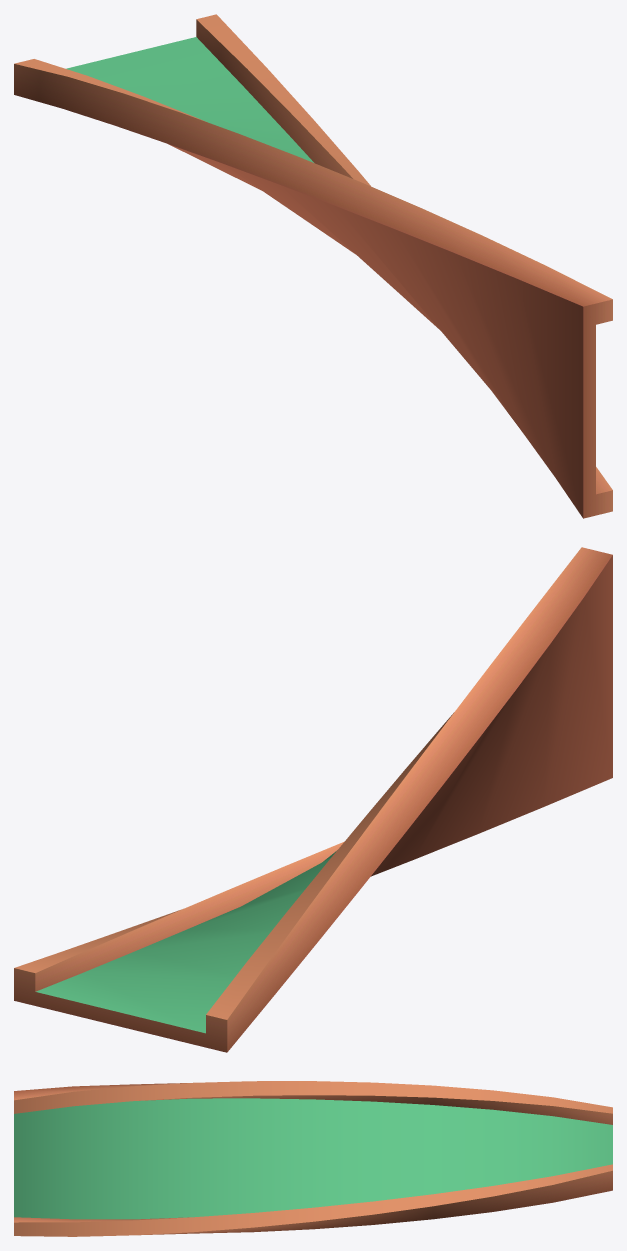
File: spline-default-straight-skew-left-side.glb
3 views of the same model, one above another, from view 1: azimuth 30°, elevation 25°; view 2: azimuth 150°, elevation 25°; view 3: azimuth 270°, elevation 25° (orthographic). The views are drawn at different scales.
Visible parts, largest first — view 1: spline-default-straight-skew-left-side; view 2: spline-default-straight-skew-left-side; view 3: spline-default-straight-skew-left-side.
Part boxes in pixels (left/top/right/bottom): spline-default-straight-skew-left-side: left=14, top=14, right=612, bottom=518; spline-default-straight-skew-left-side: left=14, top=547, right=612, bottom=1052; spline-default-straight-skew-left-side: left=14, top=1081, right=612, bottom=1236.
Size of the model in its own units: 1.02 by 1.02 by 4.
1 material, 1 textured.
